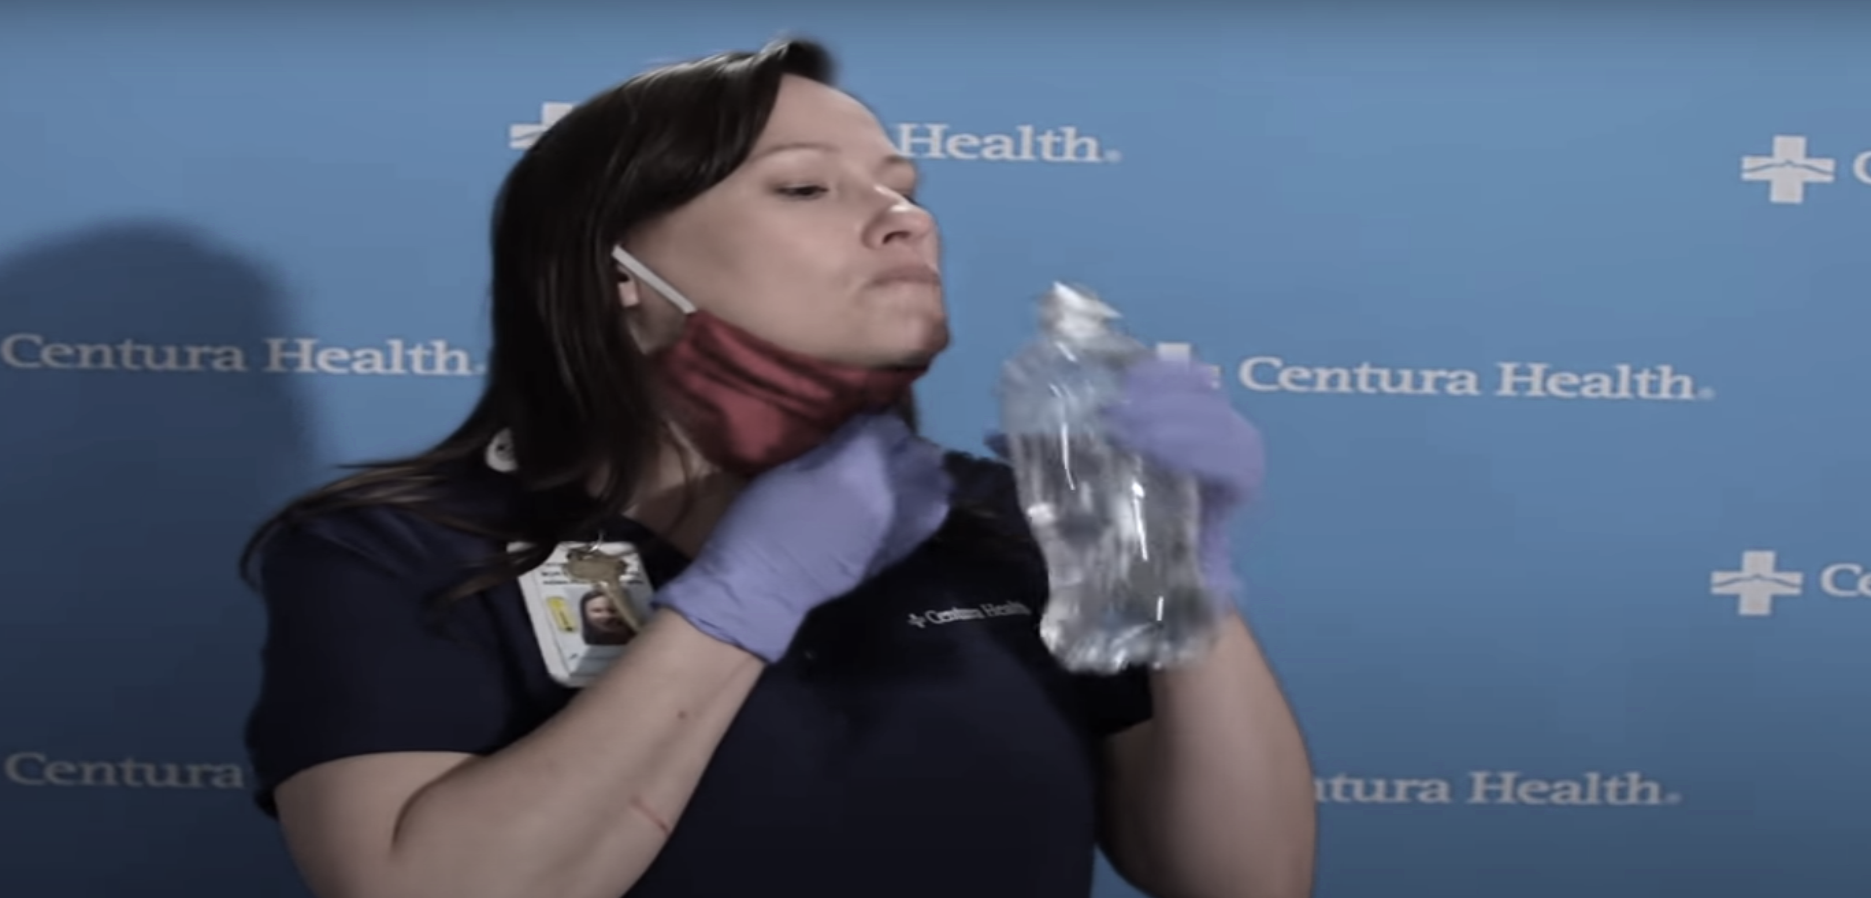mask_weared_incorrect: (495, 40, 951, 477)
